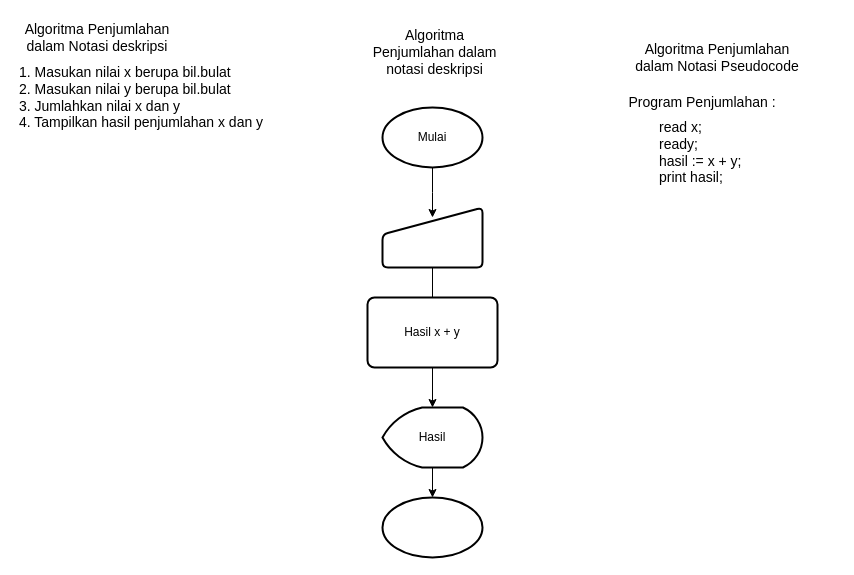
The diagram is 854 pixels wide and 575 high, and some of its shapes have lost their labels. Here are the shapes that lost their labels. From the top down, the centre of each, then its label:
(x=432, y=237): x,y
(x=432, y=527): Selesai
